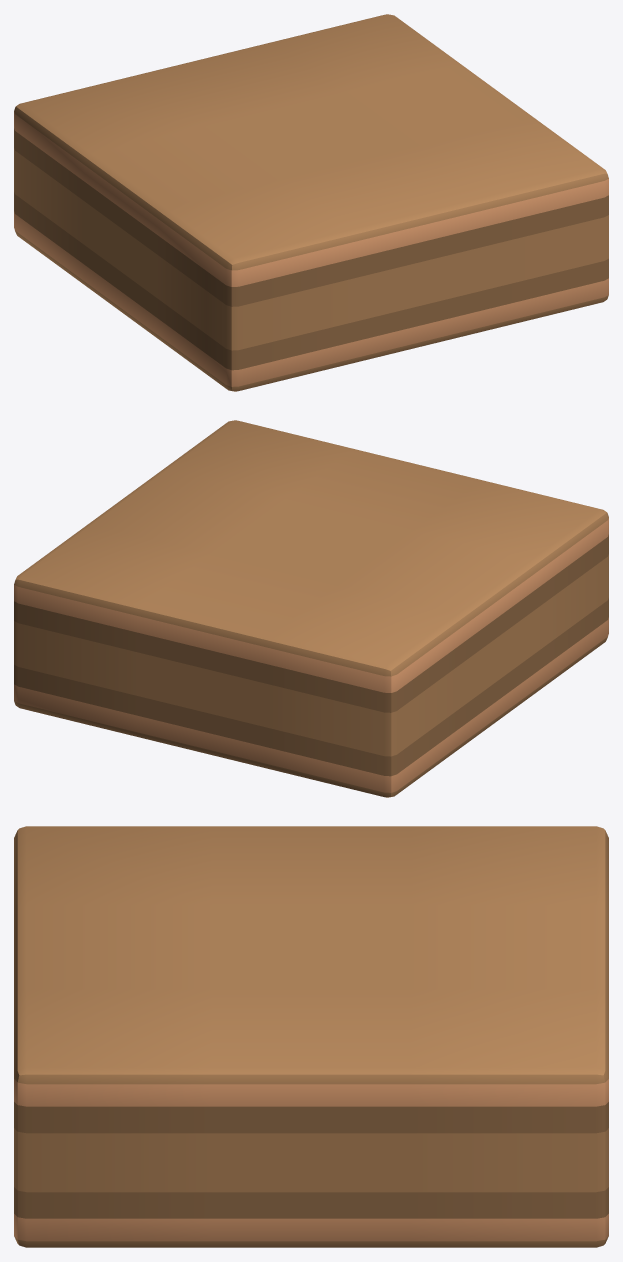
Rendered from Cube Dirt 3x3.glb.
3 views of the same model, one above another, from view 1: azimuth 30°, elevation 25°; view 2: azimuth 150°, elevation 25°; view 3: azimuth 270°, elevation 25° (orthographic). The views are drawn at different scales.
Visible parts, largest first — view 1: Cube_Dirt_Corner, Cube_Dirt_Side, Cube_Dirt_Corner.003, Cube_Dirt_Side.001, Cube_Dirt_Corner.001, Cube_Dirt_Center, Cube_Dirt_Side.003, Cube_Dirt_Side.002, Cube_Dirt_Corner.002; view 2: Cube_Dirt_Corner.001, Cube_Dirt_Side.002, Cube_Dirt_Corner.002, Cube_Dirt_Side.001, Cube_Dirt_Corner, Cube_Dirt_Center, Cube_Dirt_Side.003, Cube_Dirt_Side, Cube_Dirt_Corner.003; view 3: Cube_Dirt_Side.003, Cube_Dirt_Corner.002, Cube_Dirt_Corner.003, Cube_Dirt_Side, Cube_Dirt_Side.002, Cube_Dirt_Center, Cube_Dirt_Side.001, Cube_Dirt_Corner, Cube_Dirt_Corner.001.
Boxes of the visible parts, box(x1,y1,x2,y2) form: Cube_Dirt_Corner: box(157, 179, 357, 391); Cube_Dirt_Side: box(285, 148, 485, 362); Cube_Dirt_Corner.003: box(412, 118, 608, 331); Cube_Dirt_Side.001: box(83, 125, 284, 339); Cube_Dirt_Corner.001: box(14, 74, 210, 285); Cube_Dirt_Center: box(211, 94, 411, 178); Cube_Dirt_Side.003: box(339, 65, 536, 147); Cube_Dirt_Side.002: box(140, 43, 337, 124); Cube_Dirt_Corner.002: box(267, 14, 462, 93); Cube_Dirt_Corner.001: box(265, 585, 465, 797); Cube_Dirt_Side.002: box(137, 554, 337, 768); Cube_Dirt_Corner.002: box(14, 524, 210, 737); Cube_Dirt_Side.001: box(338, 531, 539, 745); Cube_Dirt_Corner: box(412, 480, 608, 691); Cube_Dirt_Center: box(211, 500, 411, 584); Cube_Dirt_Side.003: box(86, 471, 283, 553); Cube_Dirt_Side: box(285, 449, 482, 530); Cube_Dirt_Corner.003: box(160, 420, 355, 499); Cube_Dirt_Side.003: box(212, 989, 410, 1247); Cube_Dirt_Corner.002: box(410, 989, 608, 1247); Cube_Dirt_Corner.003: box(14, 989, 212, 1247); Cube_Dirt_Side: box(14, 905, 212, 999); Cube_Dirt_Side.002: box(410, 905, 608, 999); Cube_Dirt_Center: box(212, 905, 410, 988); Cube_Dirt_Side.001: box(212, 826, 410, 905); Cube_Dirt_Corner: box(14, 826, 212, 915); Cube_Dirt_Corner.001: box(410, 826, 608, 915).
Size of the model in its own units: 6 by 2 by 6.
